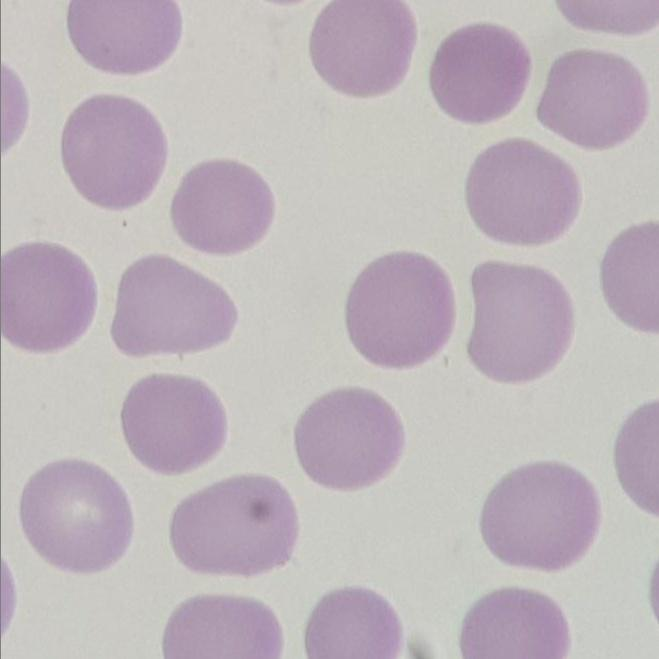Uninfected: (480, 459, 603, 577), (347, 251, 458, 369), (112, 261, 239, 364), (20, 464, 133, 577), (167, 477, 297, 575), (57, 94, 169, 206), (467, 137, 584, 243), (463, 264, 568, 380), (288, 389, 404, 490), (535, 47, 647, 148), (308, 0, 420, 100), (120, 372, 226, 474), (0, 241, 93, 354), (428, 27, 527, 126), (172, 159, 271, 256), (157, 594, 289, 659), (67, 0, 181, 73), (458, 589, 570, 659), (300, 591, 402, 659)
